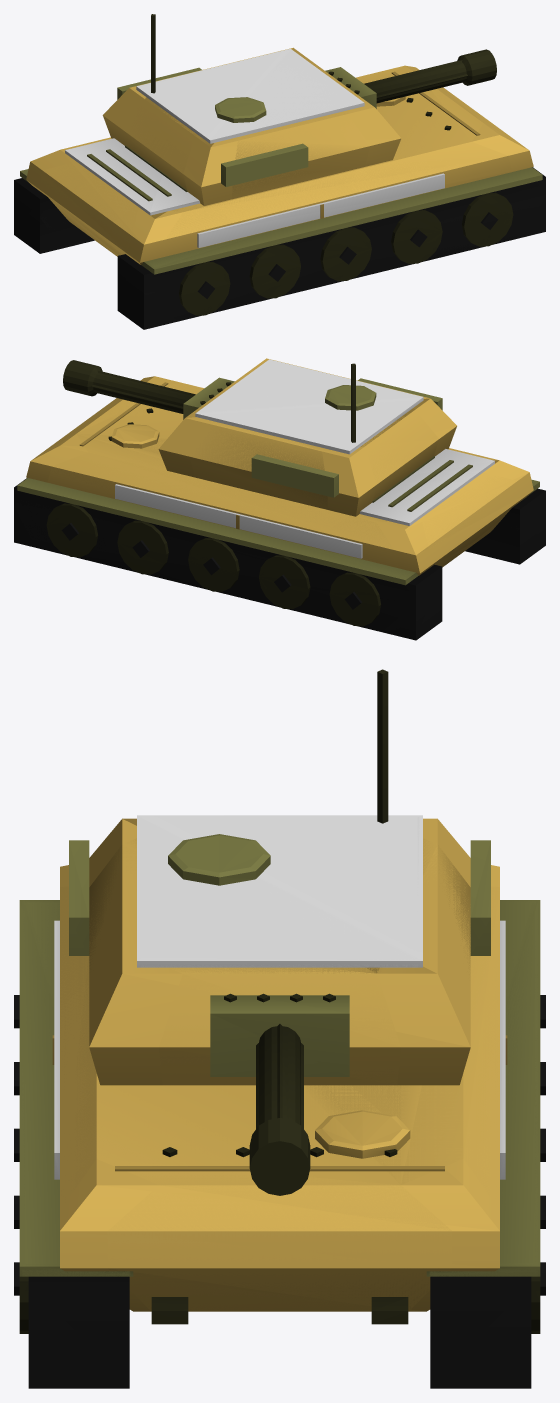
File: meridian_light_tank.glb
The picture shows the model from 3 angles, top to bottom: view 1: azimuth 30°, elevation 25°; view 2: azimuth 150°, elevation 25°; view 3: azimuth 270°, elevation 25°; orthographic projection. The views are drawn at different scales.
Parts seen in each view (by area): view 1: hull (×3), turret (×3), barrel (×2); view 2: hull (×3), turret (×3), barrel (×2); view 3: hull (×3), turret (×3), barrel (×3).
Part boxes in pixels (<box>): hull (×3): <box>14,65,545,329</box>; turret (×3): <box>102,14,401,205</box>; barrel (×2): <box>364,49,496,103</box>; hull (×3): <box>14,376,545,640</box>; turret (×3): <box>158,358,456,516</box>; barrel (×2): <box>63,360,195,413</box>; hull (×3): <box>14,865,545,1388</box>; turret (×3): <box>69,669,490,1085</box>; barrel (×3): <box>249,1024,310,1195</box>.
Size of the model in its own units: 5 by 2.6 by 2.9.
